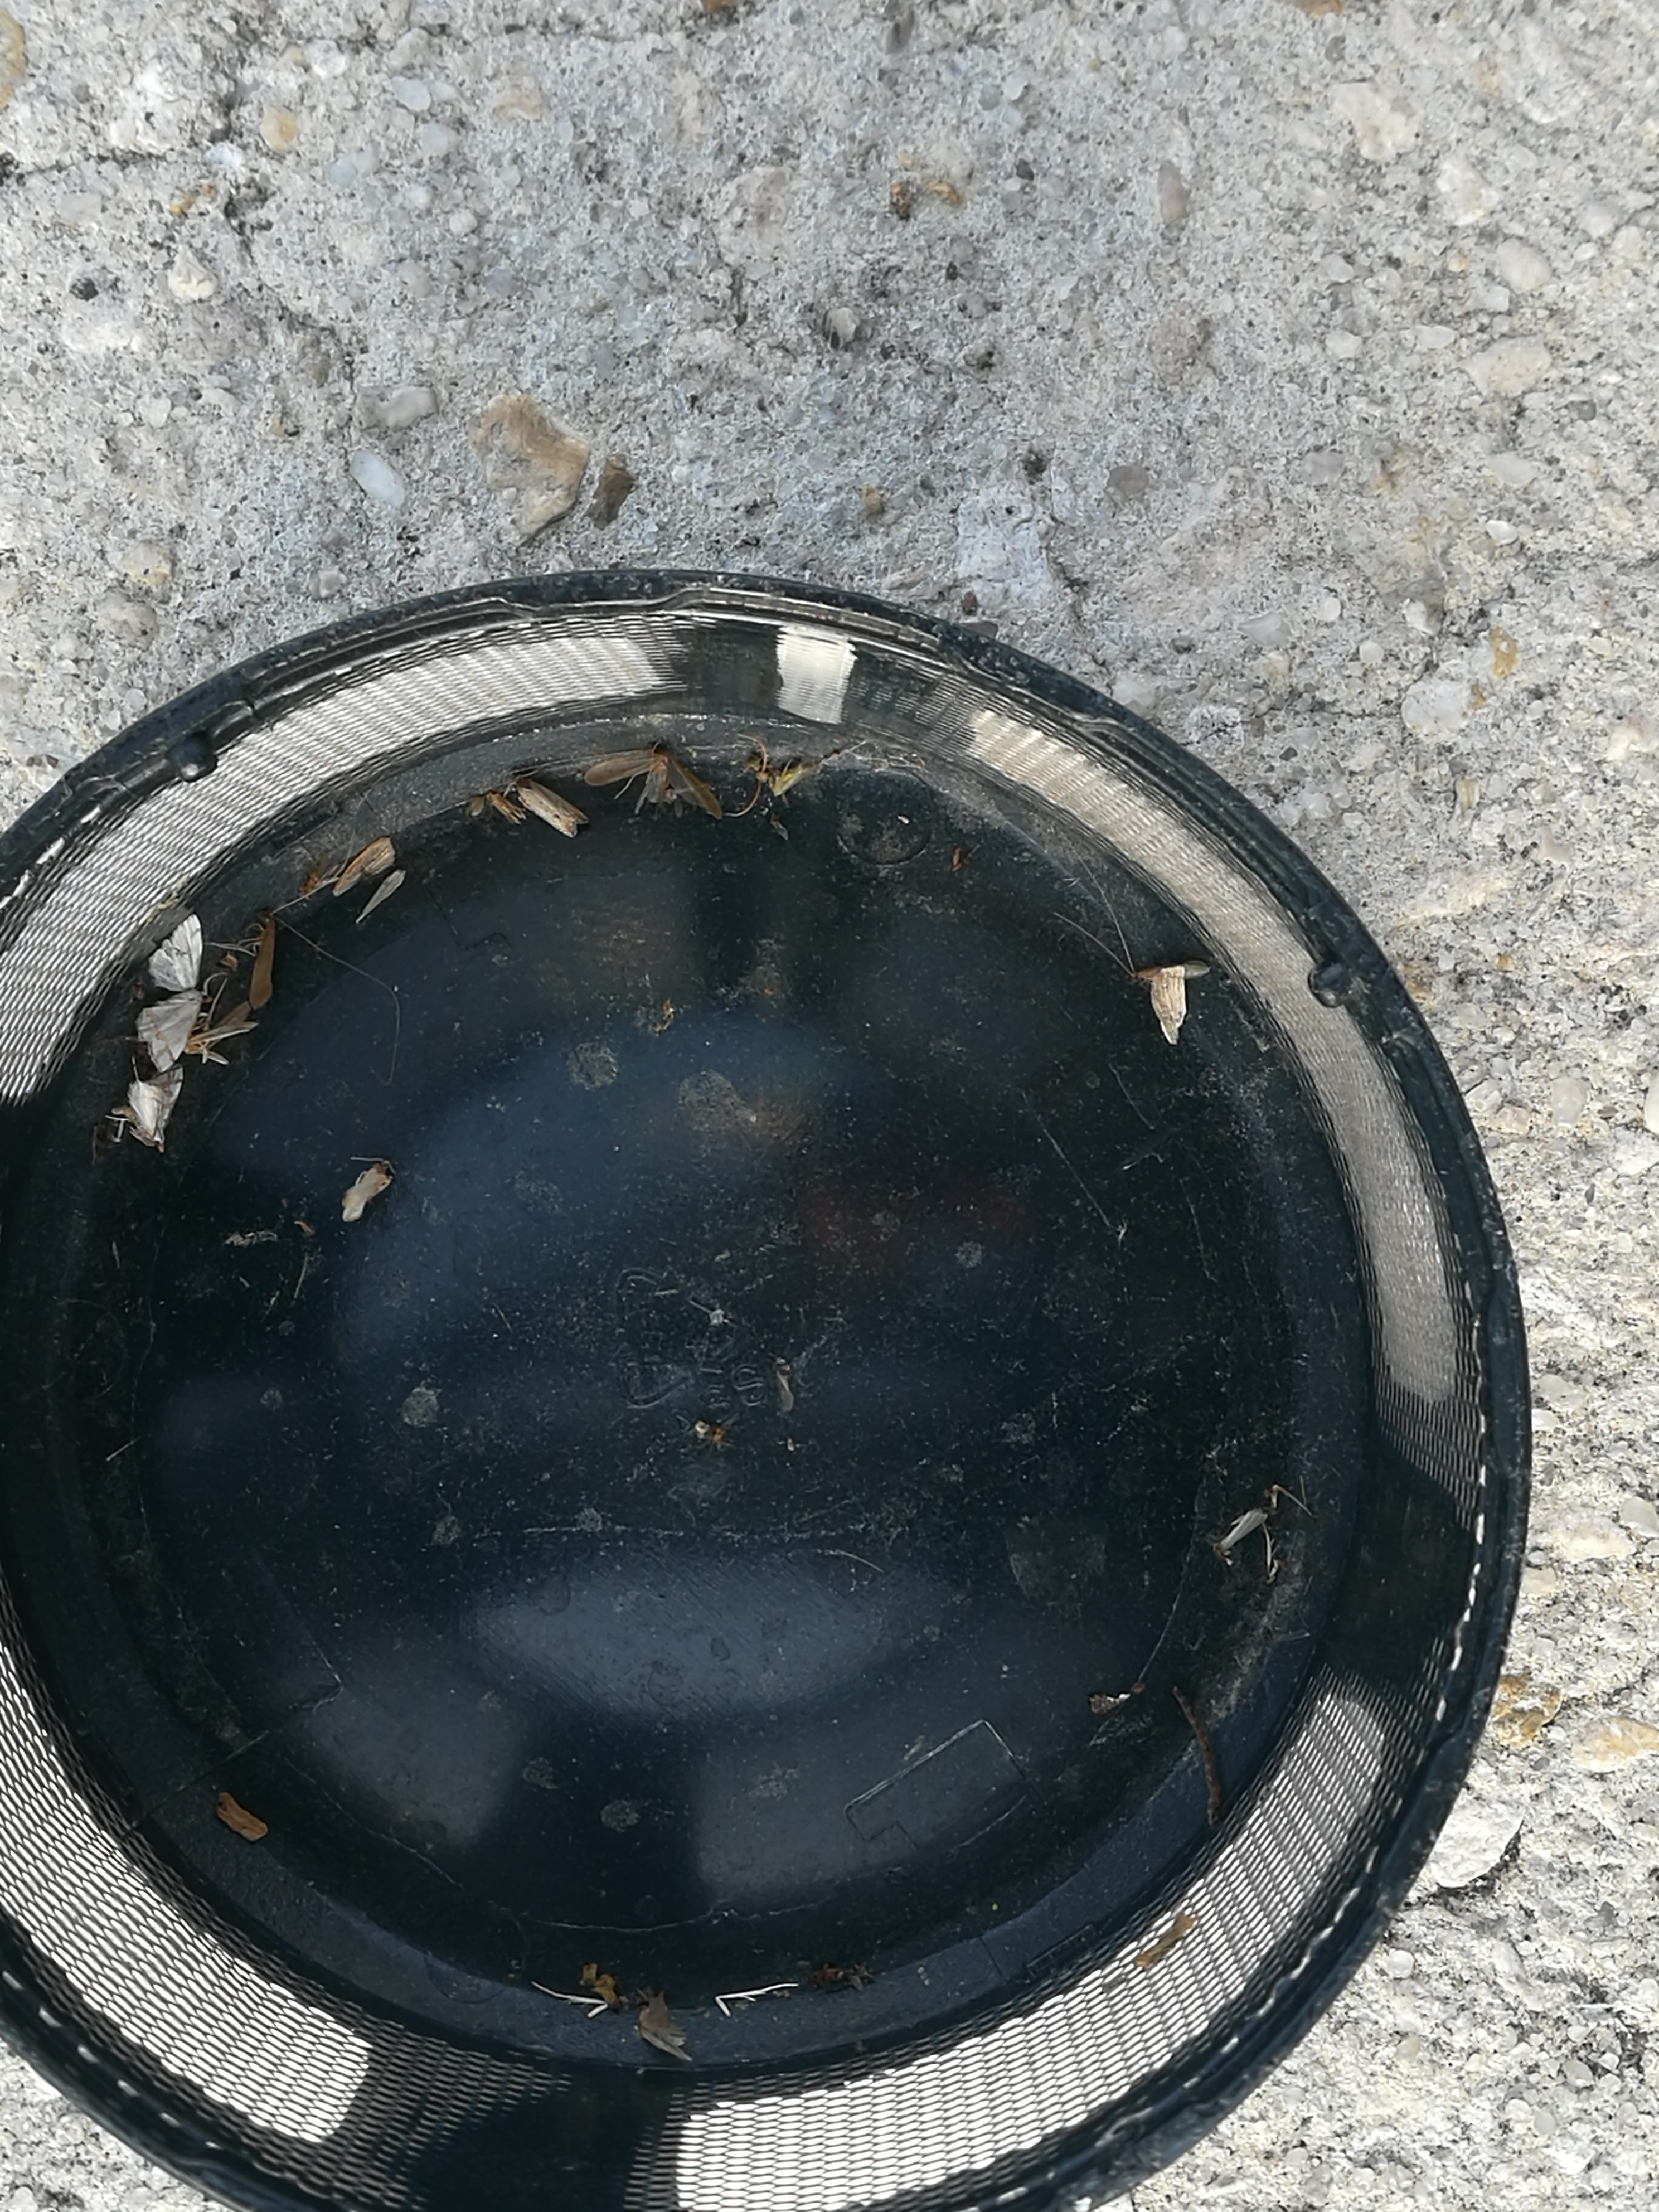mosquito: (518, 780, 586, 836), (185, 1008, 251, 1052), (246, 916, 275, 1010), (1133, 960, 1211, 981)
moth: (584, 740, 721, 817), (134, 916, 202, 1071), (127, 1073, 183, 1148)
